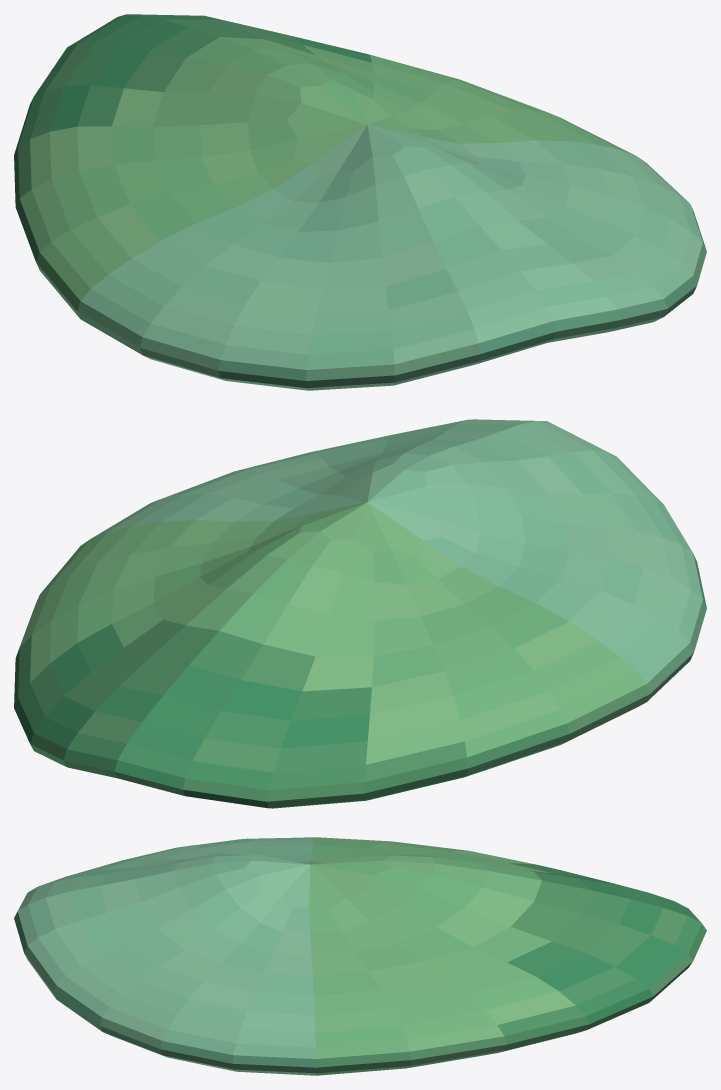
Rendered from Snake_Scale.glb.
3 views of the same model, one above another, from view 1: azimuth 30°, elevation 25°; view 2: azimuth 150°, elevation 25°; view 3: azimuth 270°, elevation 25° (orthographic). The views are drawn at different scales.
Parts seen in each view (by area): view 1: SnakeScale; view 2: SnakeScale; view 3: SnakeScale.
Boxes of the visible parts, left/top/right/bottom form: SnakeScale: left=14, top=14, right=706, bottom=390; SnakeScale: left=14, top=419, right=706, bottom=808; SnakeScale: left=14, top=837, right=706, bottom=1075.
Size of the model in its own units: 0.4572 by 0.1217 by 0.6108.
